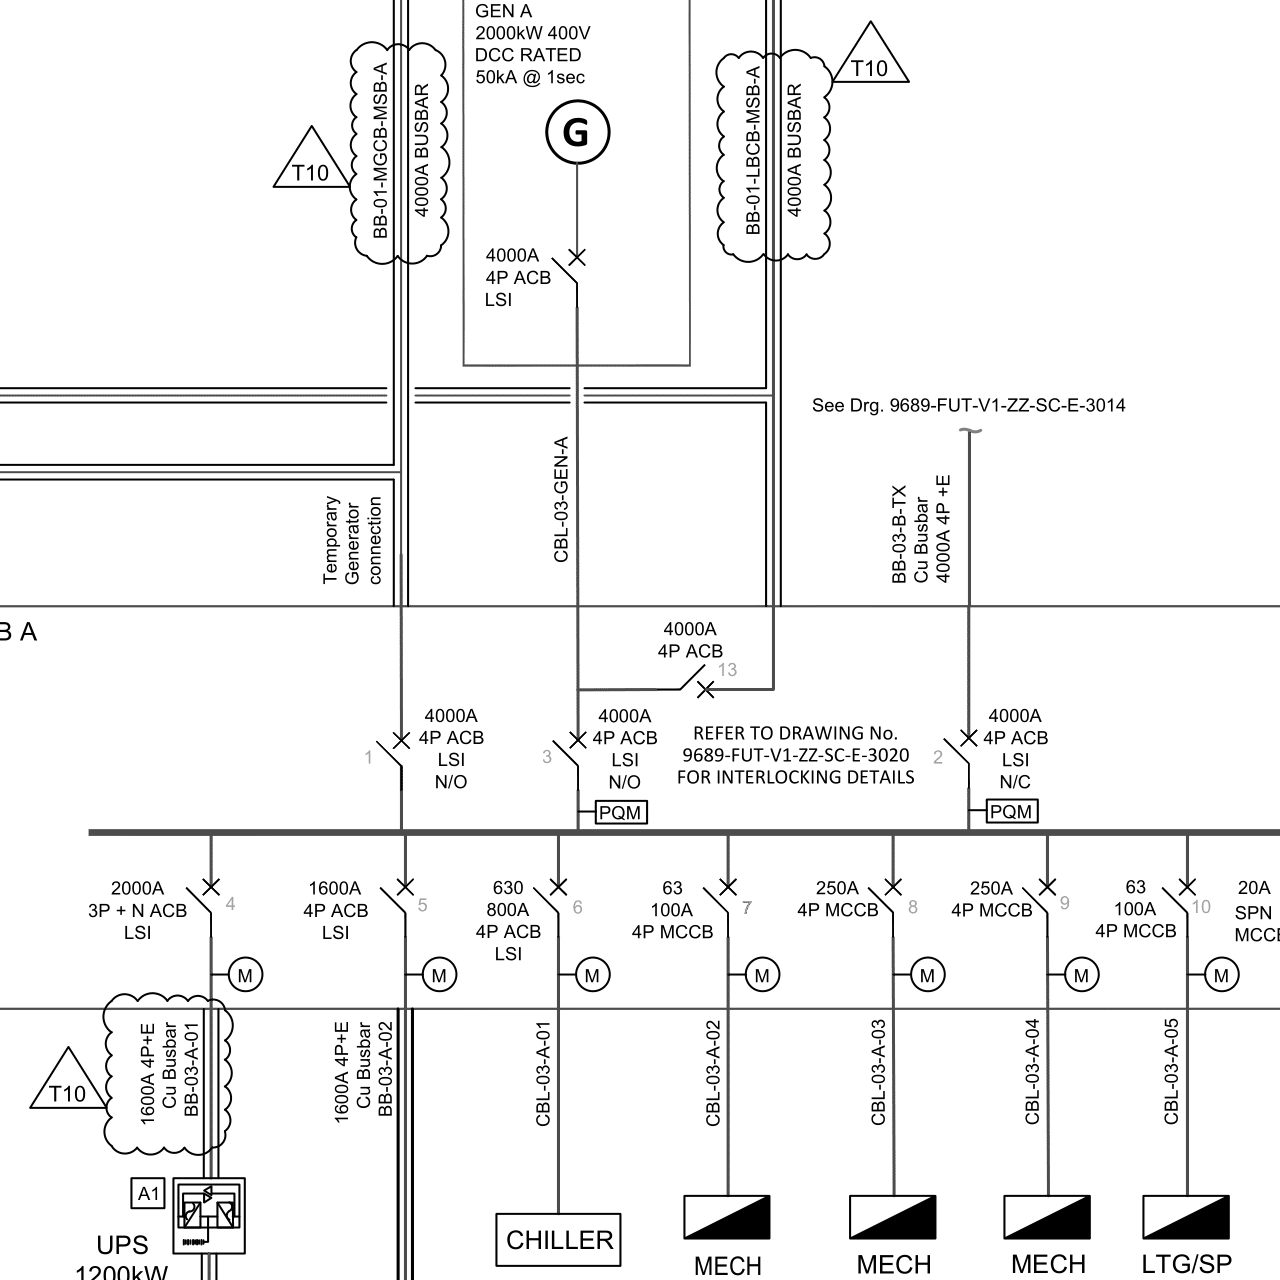Chiller: (483, 1204, 635, 1276)
Distribution Board: (1126, 1180, 1245, 1248), (989, 1180, 1104, 1250), (833, 1180, 947, 1248), (672, 1185, 789, 1248)
Generator: (535, 93, 622, 182)
UPS: (166, 1171, 254, 1261)
